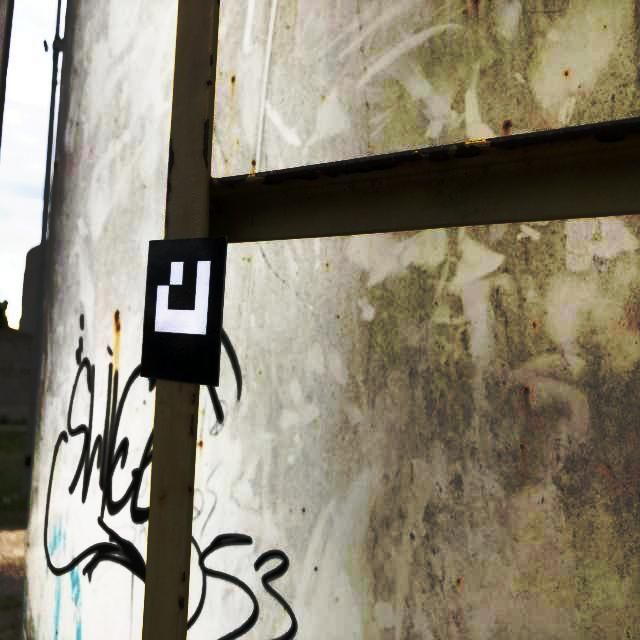Corrosion: (254, 142, 484, 186), (485, 117, 640, 153), (165, 138, 175, 227), (217, 174, 251, 189), (202, 118, 210, 170), (188, 413, 194, 436), (114, 310, 120, 330), (178, 596, 185, 612), (180, 571, 186, 584), (190, 392, 195, 406), (209, 54, 214, 67), (504, 120, 510, 129), (207, 80, 212, 86), (188, 485, 192, 492), (160, 493, 164, 500), (232, 76, 235, 82), (475, 0, 479, 4), (217, 0, 220, 5), (252, 160, 255, 165), (565, 71, 568, 76), (520, 444, 523, 449), (525, 388, 528, 392), (458, 579, 460, 583)
